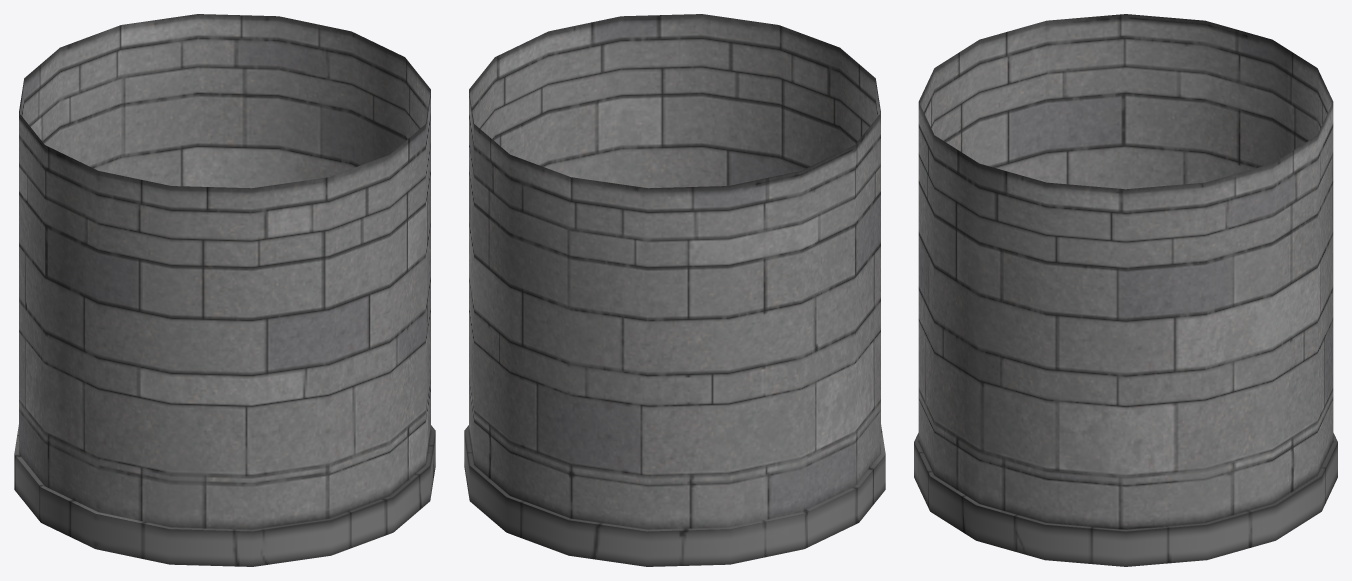
The model's file is sb_obj_outdoor001_Castle01_CircleWall00.fbx.
3 views of the same model, side by side, from view 1: azimuth 30°, elevation 25°; view 2: azimuth 150°, elevation 25°; view 3: azimuth 270°, elevation 25° (orthographic).
Visible parts, largest first — view 1: sb_obj_outdoor001_Castle01_CircleWall00; view 2: sb_obj_outdoor001_Castle01_CircleWall00; view 3: sb_obj_outdoor001_Castle01_CircleWall00.
Boxes of the visible parts, <box> form: sb_obj_outdoor001_Castle01_CircleWall00: <box>14,14,435,566</box>; sb_obj_outdoor001_Castle01_CircleWall00: <box>464,14,885,566</box>; sb_obj_outdoor001_Castle01_CircleWall00: <box>914,14,1337,566</box>.
Bounding box in the file's own units: 3.07 × 3 × 3.07.
